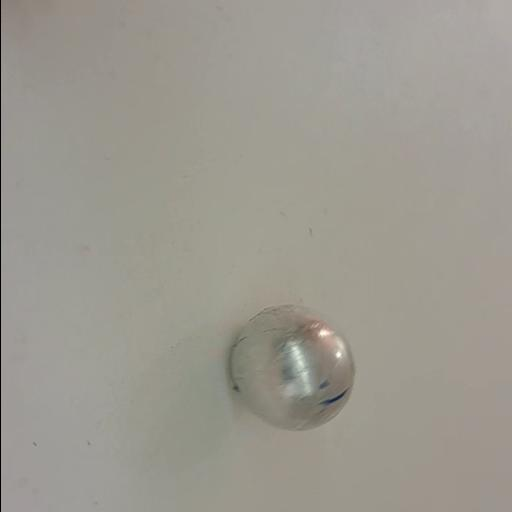alive: (226, 302, 356, 434)
